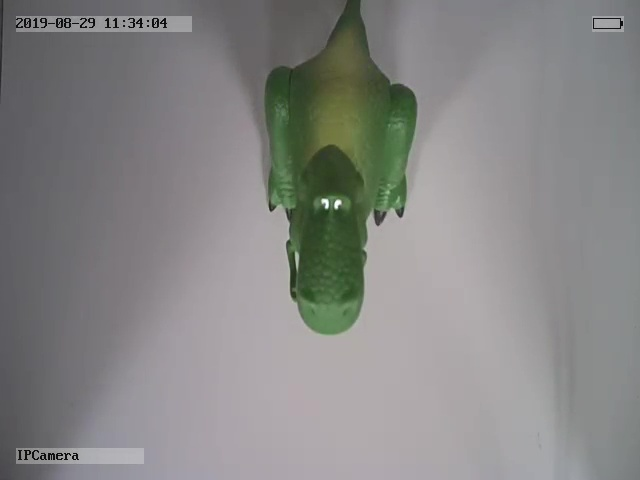rex: (262, 4, 420, 337)
